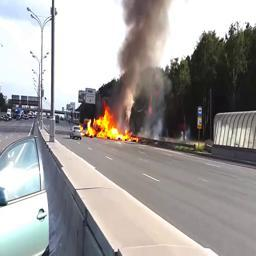fire: (86, 102, 138, 143)
